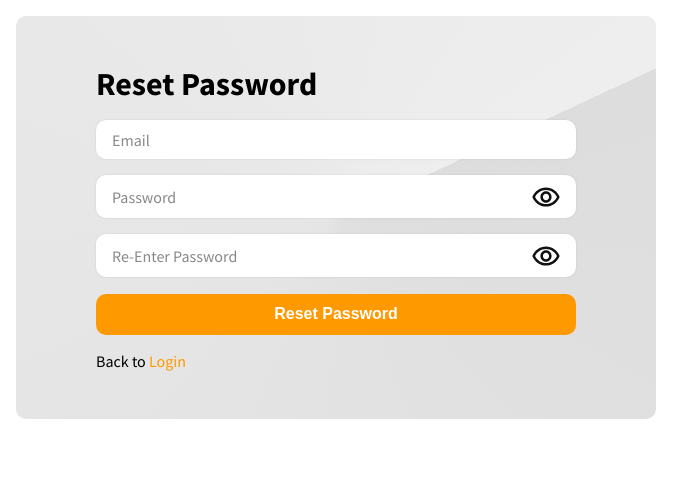
it: ResetPassword component › should validate confirm password input
Type "password123#" into the password field with placeholder "Password" at (314, 197), box [112, 187, 516, 207]
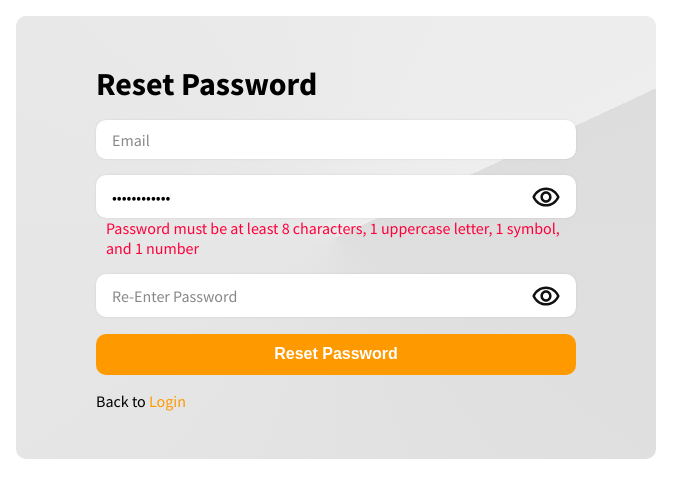
Type "password123" into the password field with placeholder "Re-Enter Password" at (314, 296), box [112, 286, 516, 306]
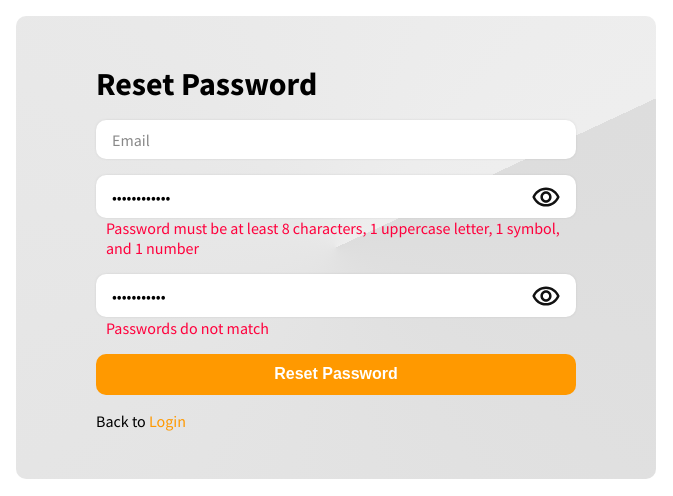
Expected: the text "Passwords do not match" is shown, [106, 318, 269, 338]
